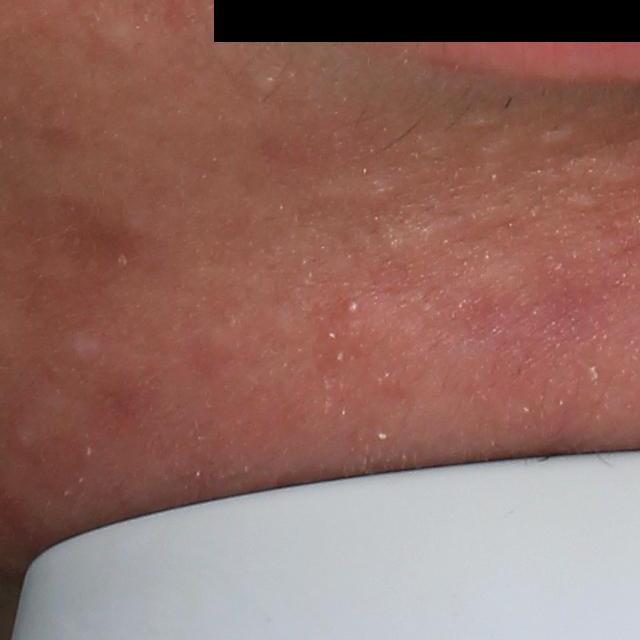comedo: (250, 71, 288, 99), (337, 292, 368, 324)
hypertrophic_scar: (6, 388, 83, 449), (63, 319, 104, 372), (467, 133, 521, 161), (537, 120, 582, 146), (455, 112, 507, 133)
